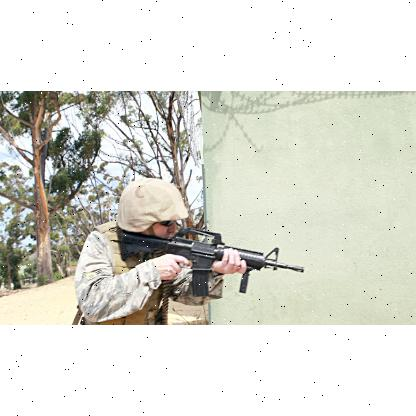gun: (117, 224, 303, 296)
